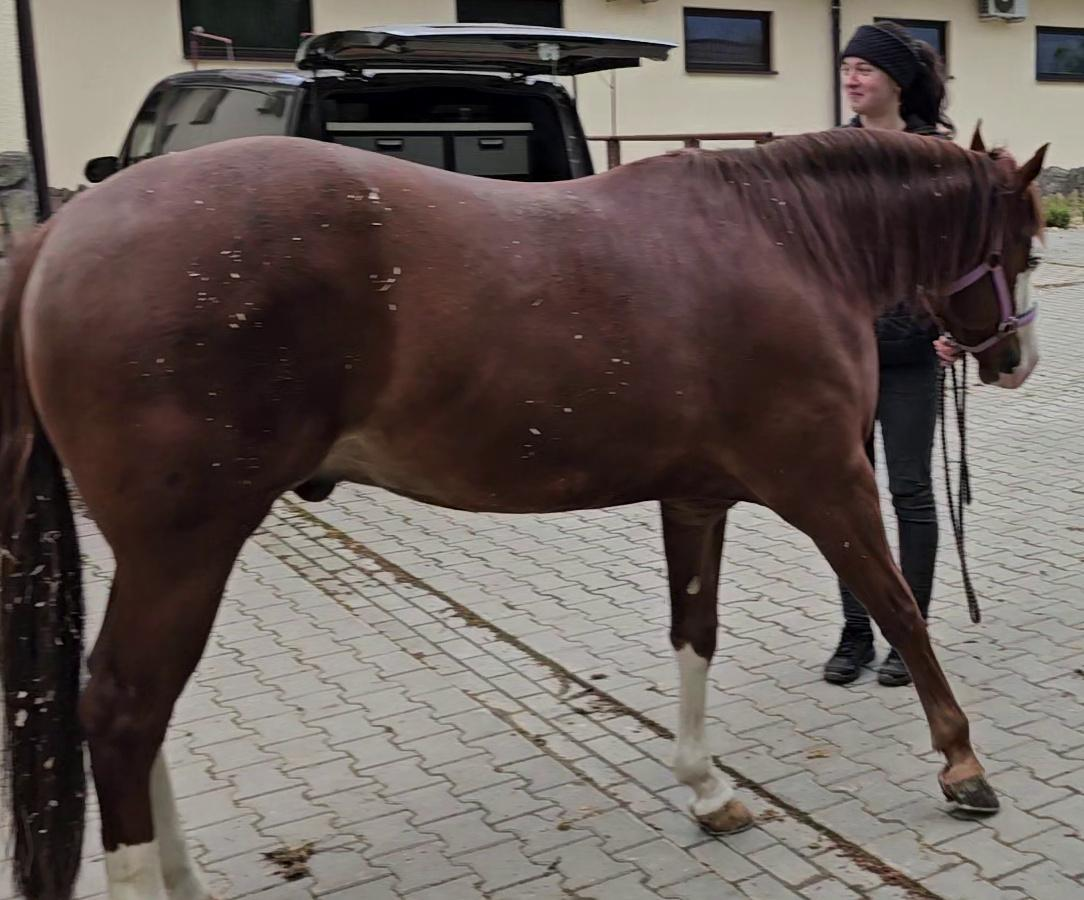horse: (0, 118, 1049, 899)
